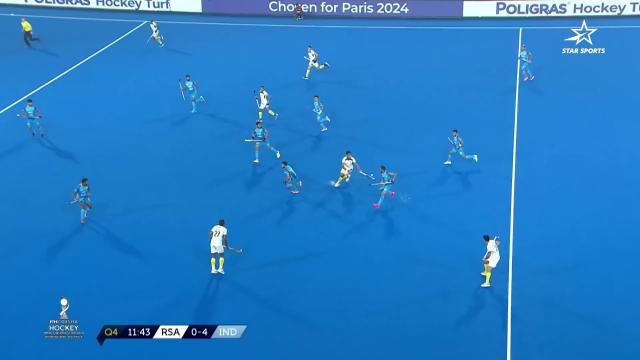ball: (14, 110, 24, 120), (371, 174, 374, 176)
